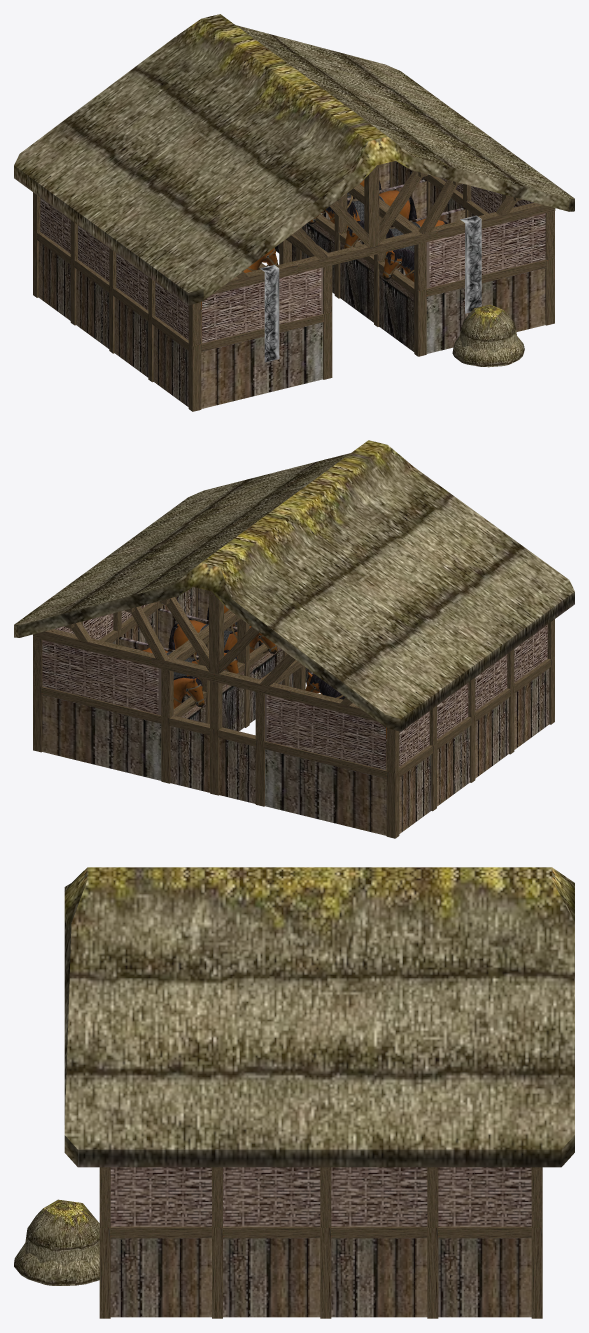
File: building-stable.glb
3 renders of one model, top to bottom at view 1: azimuth 30°, elevation 25°; view 2: azimuth 150°, elevation 25°; view 3: azimuth 270°, elevation 25°, orthographic. The views are drawn at different scales.
Visible parts, largest first — view 1: Authored_facility_mesh, corral_hay_pile, Horses_8_Bay coat with authored muscle normal map, Horses_16_Black mane and tail with alpha strands; view 2: Authored_facility_mesh, Horses_8_Bay coat with authored muscle normal map, Horses_16_Black mane and tail with alpha strands; view 3: Authored_facility_mesh, corral_hay_pile.
Boxes of the visible parts, x1,y1,x2,y2 form: Authored_facility_mesh: [14, 14, 574, 411]; corral_hay_pile: [452, 304, 524, 367]; Horses_8_Bay coat with authored muscle normal map: [201, 180, 444, 309]; Horses_16_Black mane and tail with alpha strands: [326, 180, 447, 275]; Authored_facility_mesh: [14, 440, 574, 838]; Horses_8_Bay coat with authored muscle normal map: [142, 605, 386, 739]; Horses_16_Black mane and tail with alpha strands: [168, 607, 345, 699]; Authored_facility_mesh: [64, 867, 574, 1318]; corral_hay_pile: [14, 1199, 99, 1285].
Size of the model in its own units: 9.3 by 5.33 by 8.42.
Materials: 6 (6 with a texture image).
